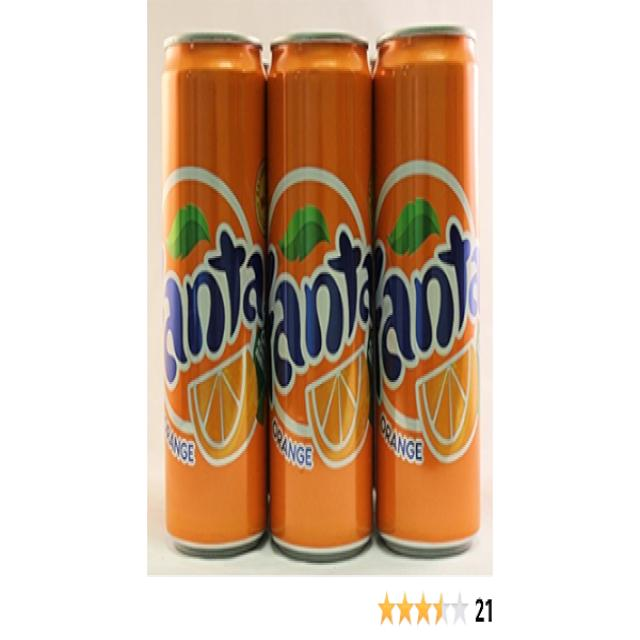fanta: (160, 32, 276, 556), (373, 22, 482, 552), (269, 25, 376, 564)
